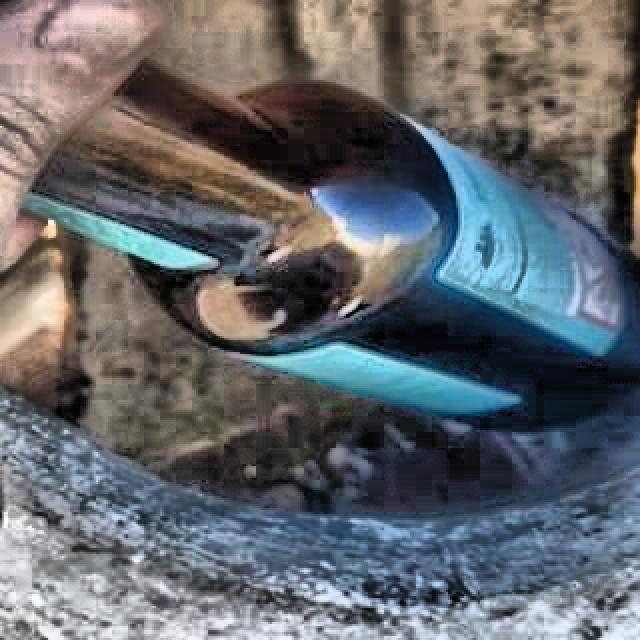glass: (24, 64, 640, 424)
